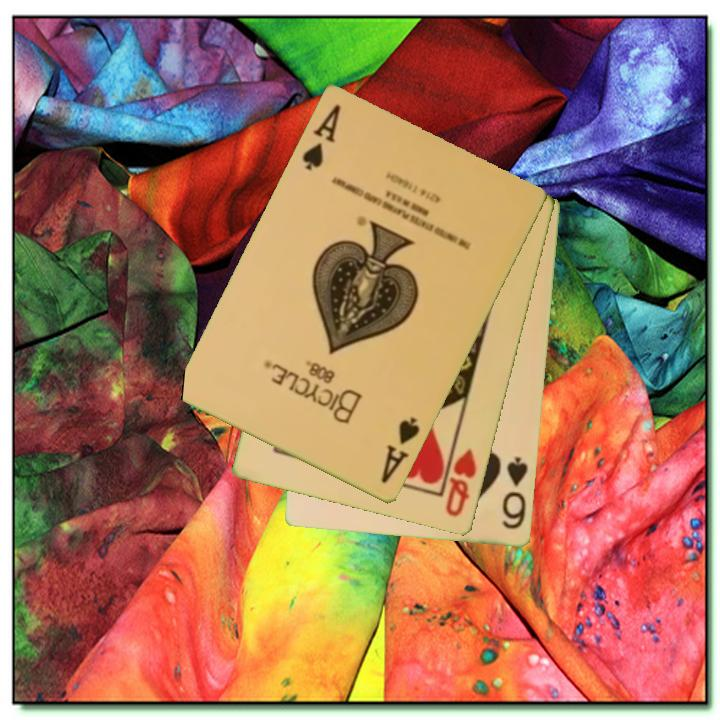6s: (499, 453, 531, 533)
As: (377, 414, 423, 487), (298, 101, 344, 174)
Qh: (442, 446, 480, 520)
